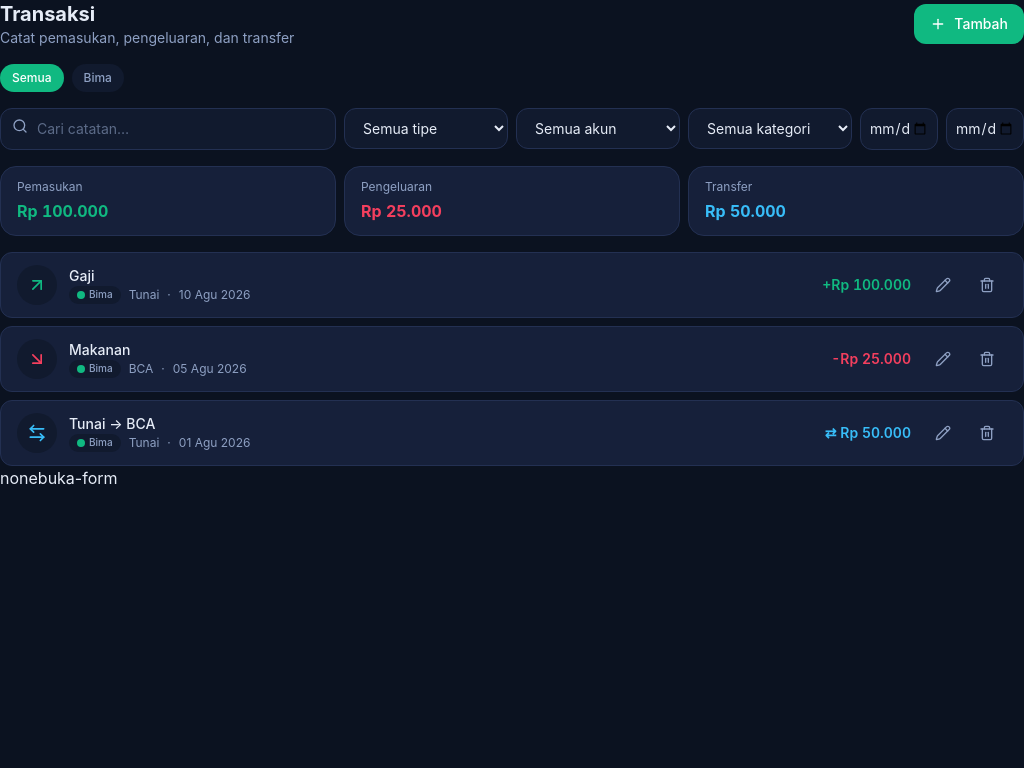
TransactionsPage › shows an error toast when deleting fails
Expected: the text "+Rp 100.000" is shown, [822, 275, 911, 295]
Click the button named "Hapus" in the row of "10 Agu 2026" at (987, 285), box [967, 271, 1007, 299]
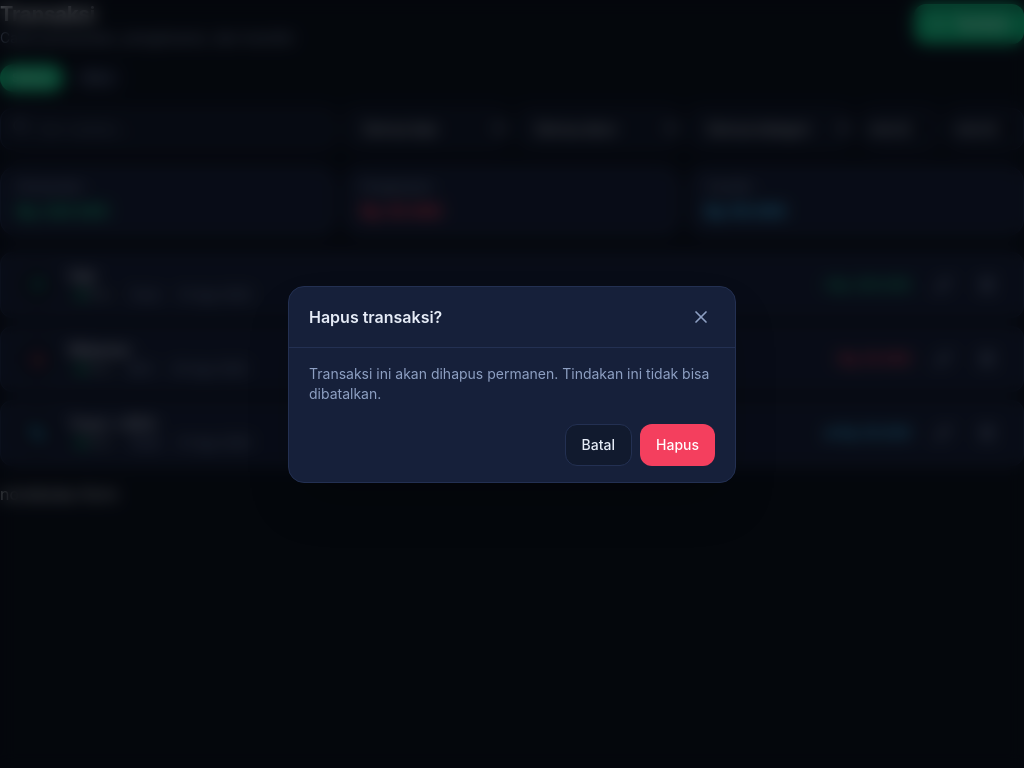
Click the button "Hapus" at (678, 444), box [640, 424, 715, 466]
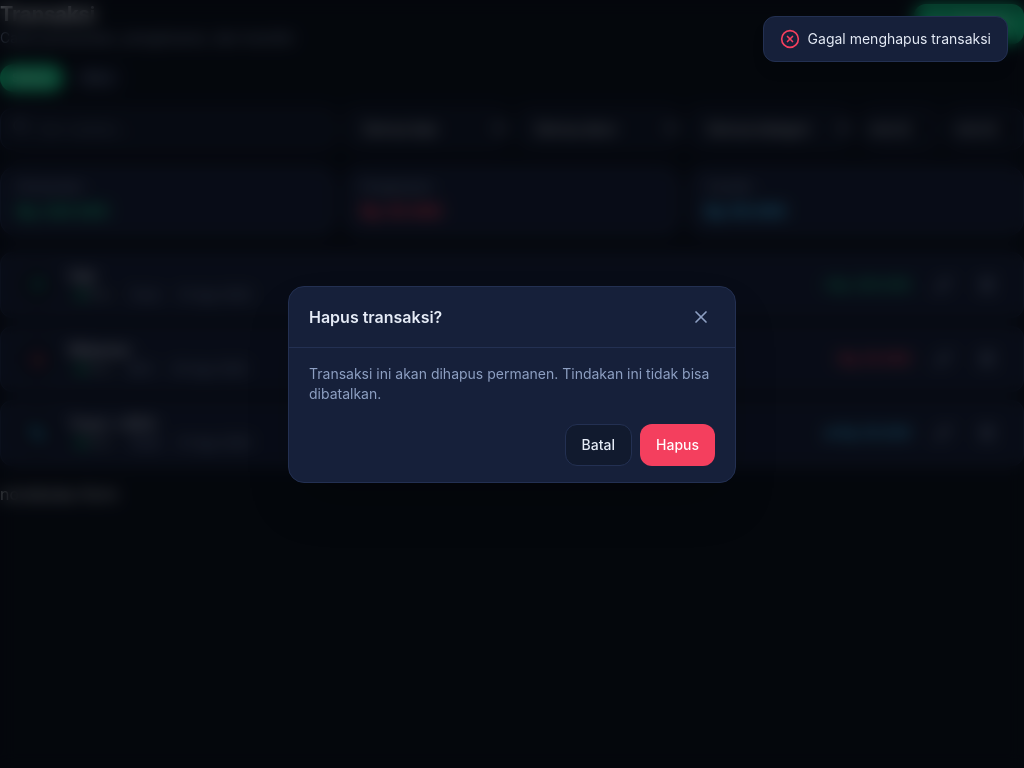
Expected: the text "Gagal menghapus transaksi" is shown, [808, 29, 991, 49]
